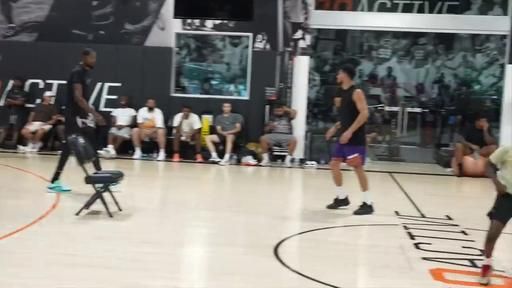human: (46, 47, 104, 192), (325, 65, 374, 216), (454, 115, 498, 176), (204, 102, 244, 166), (98, 95, 138, 158), (258, 104, 297, 168), (131, 99, 166, 161), (21, 91, 55, 153), (172, 106, 203, 162), (4, 78, 26, 148)
